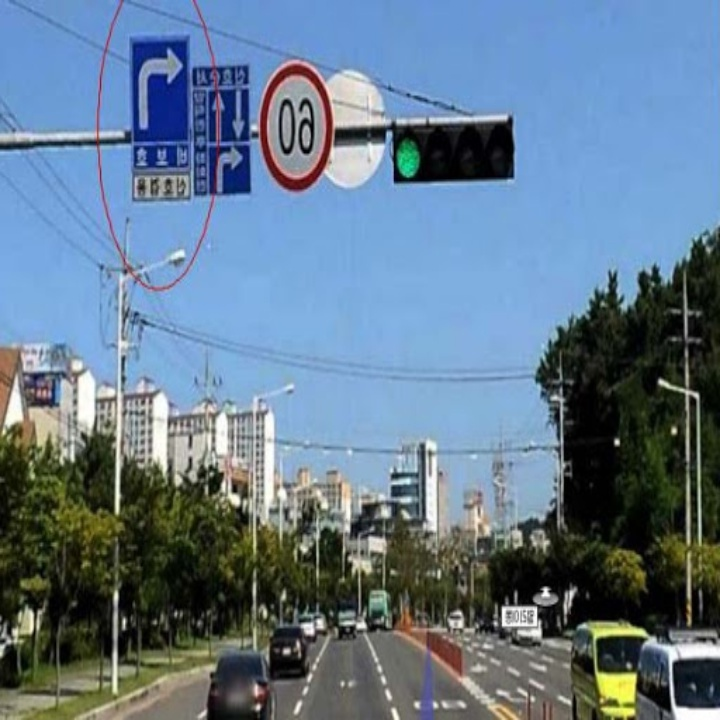right: (135, 48, 188, 139), (211, 145, 249, 196)
